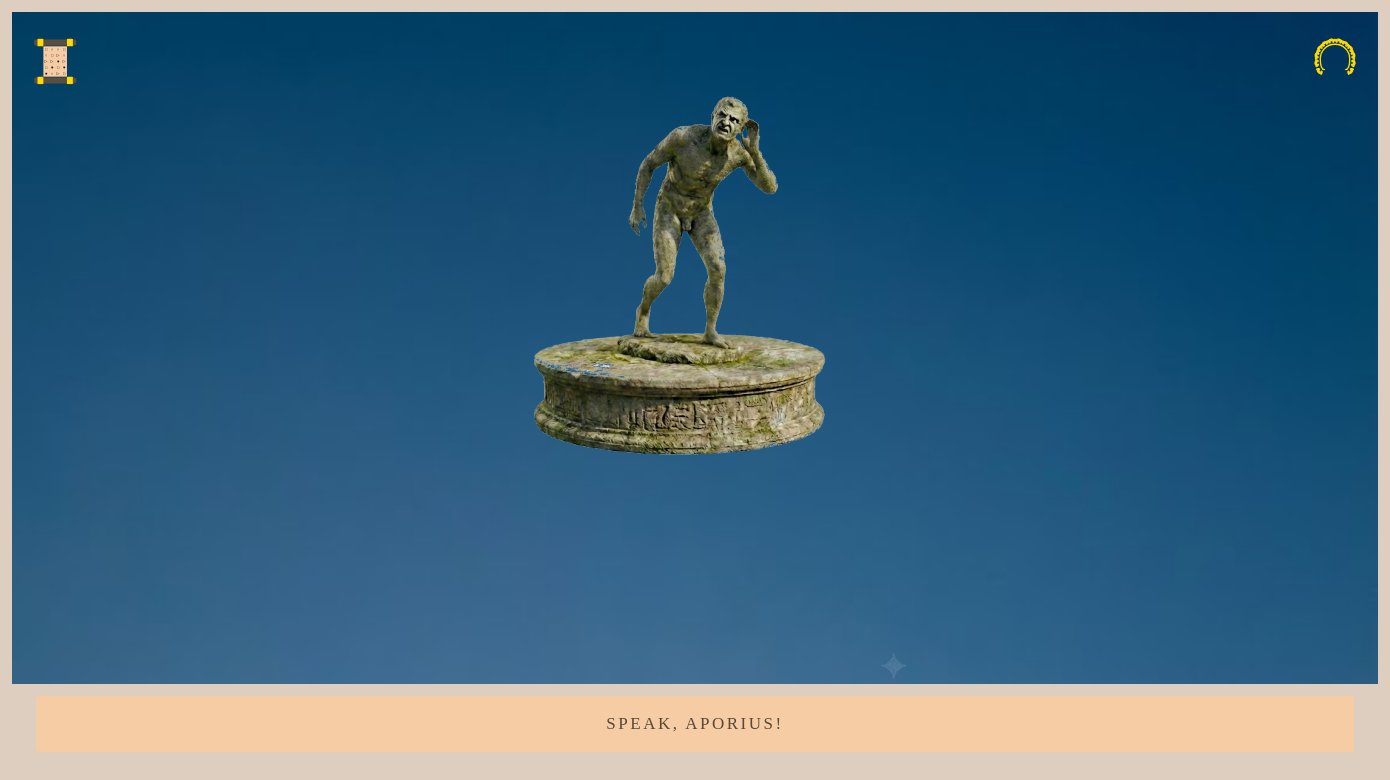
Test case: the TTS fallback chain › drops to the browser voice when both services fail
Click the button "SPEAK, APORIUS!".
click(695, 724)  # box [36,696,1354,752]
Wait 3000 ms
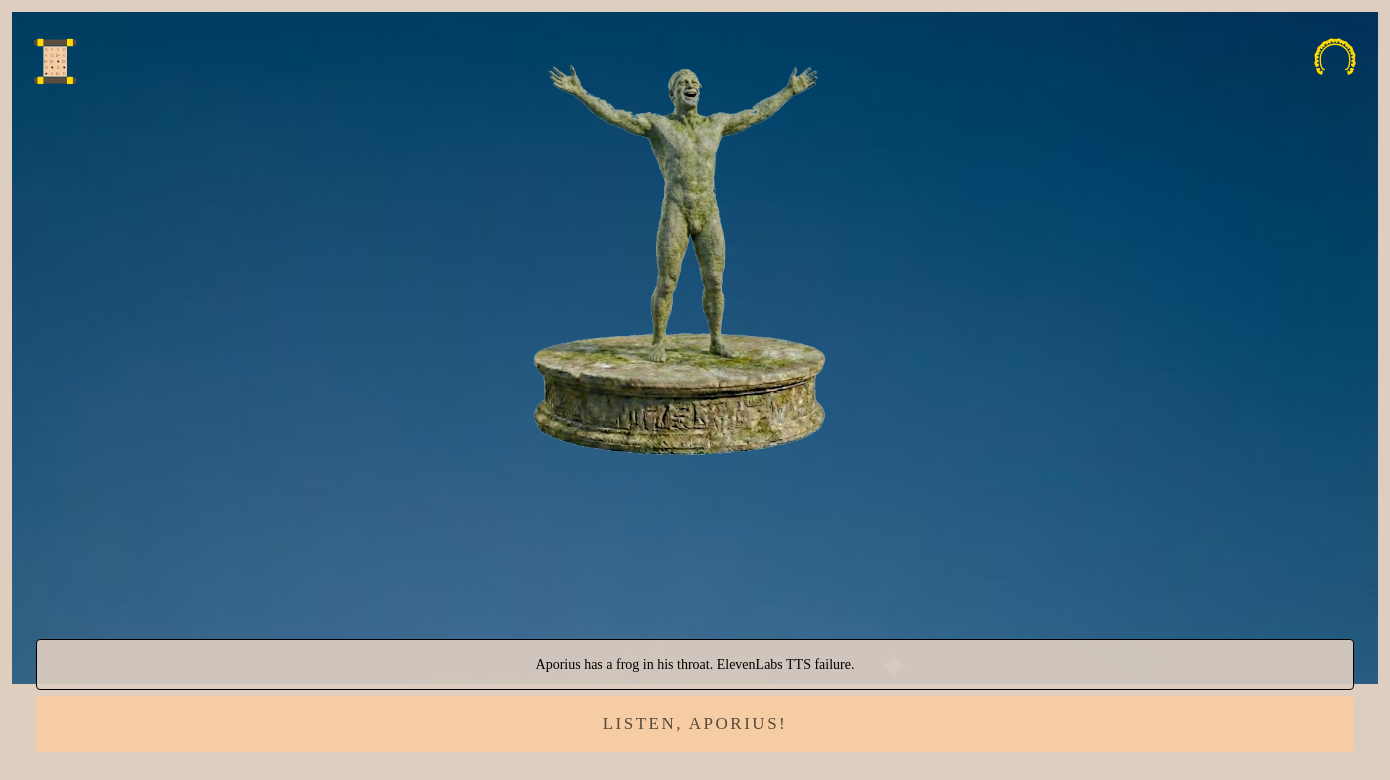
Expected: the text "Aporius has a frog in his throat. ElevenLabs TTS failure." is shown, [36,639,1354,690]
